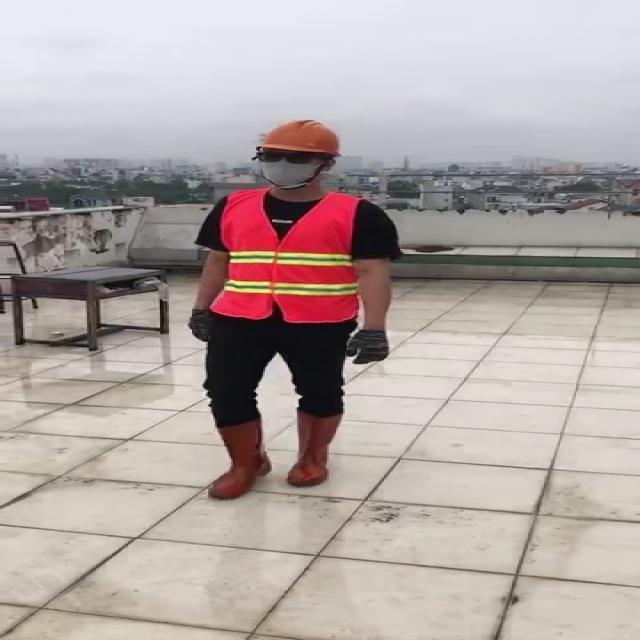gloves: (340, 322, 396, 369)
helmet: (250, 118, 344, 164)
safety_vest: (220, 184, 366, 322)
